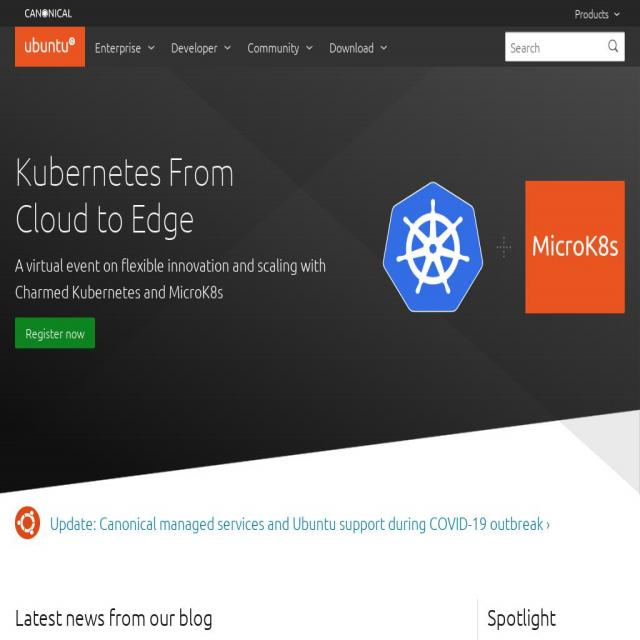button: (378, 176, 488, 323), (525, 179, 626, 314), (238, 27, 320, 66), (85, 27, 161, 66), (162, 27, 238, 66), (319, 27, 394, 66), (15, 26, 85, 67), (15, 317, 95, 348), (15, 0, 82, 27), (570, 0, 625, 27), (603, 33, 623, 60)
field: (505, 31, 625, 62)
